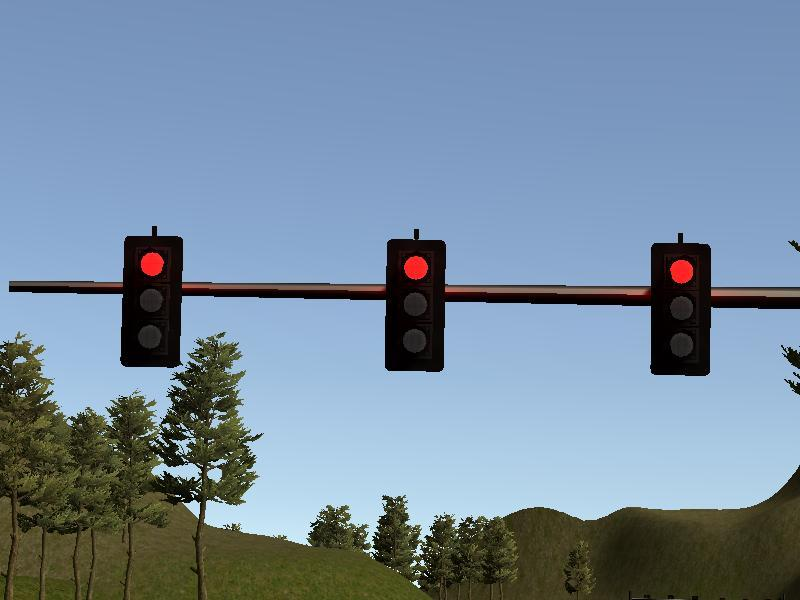Red: (124, 235, 180, 365), (387, 240, 443, 369), (654, 245, 709, 376)
